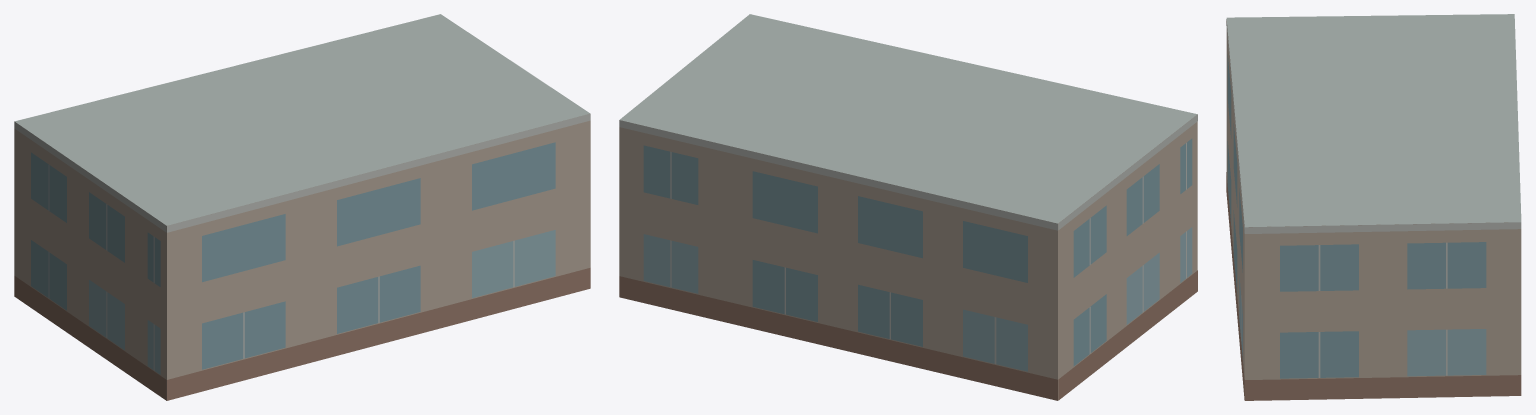
File: survey-upis-32708464.glb
The picture shows the model from 3 angles, left to right: view 1: azimuth 30°, elevation 25°; view 2: azimuth 150°, elevation 25°; view 3: azimuth 270°, elevation 25°; orthographic projection. The views are drawn at different scales.
Visible parts, largest first — view 1: survey-upis-32708464.tmp; view 2: survey-upis-32708464.tmp; view 3: survey-upis-32708464.tmp.
Part boxes in pixels (x1,y1,x2,y2): survey-upis-32708464.tmp: [14, 14, 590, 400]; survey-upis-32708464.tmp: [619, 14, 1197, 400]; survey-upis-32708464.tmp: [1226, 14, 1521, 400].
Size of the model in its own units: 16.07 by 6.1 by 9.4.
